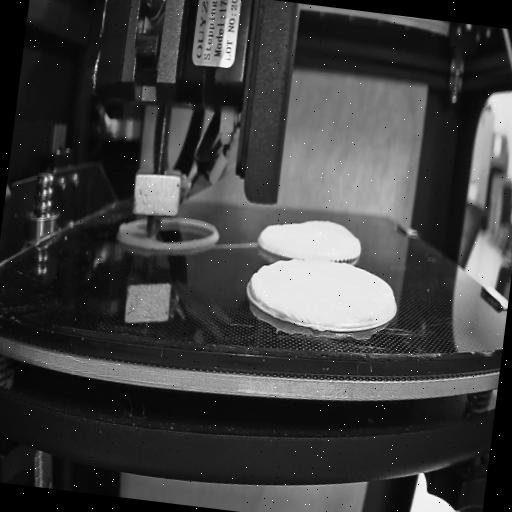over_extrusion: (246, 270, 266, 308)
